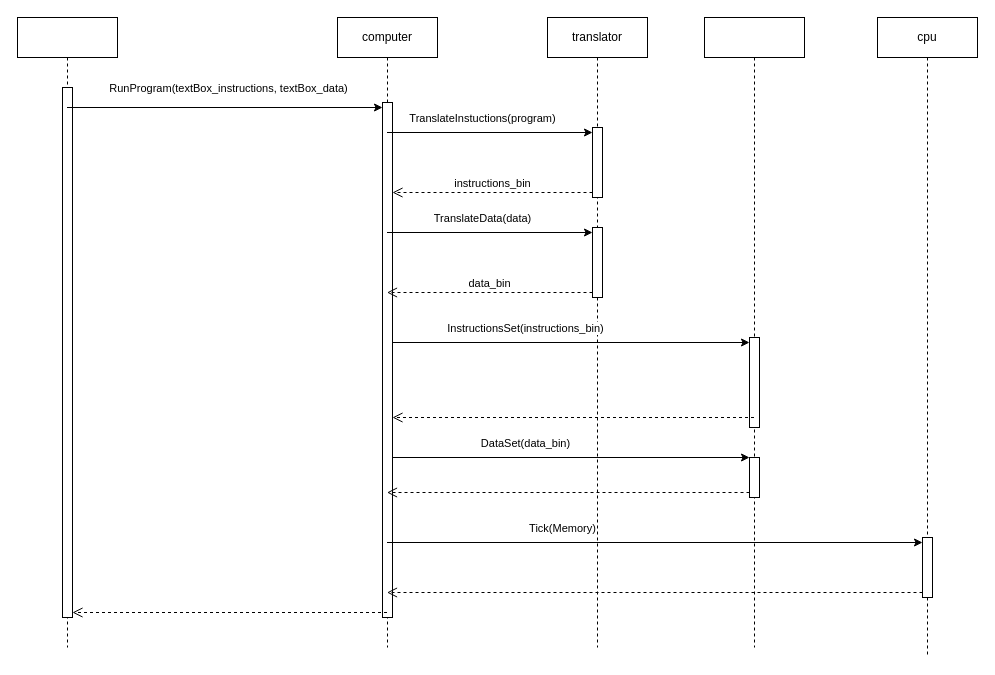
Some shapes in this 995 by 675 pixel diagram are drawn without their labels. The box of each missing label's shape, as (x1, y1, x2, y2) in pixels:
form1: (16, 16, 118, 648)
memory: (704, 16, 804, 648)
